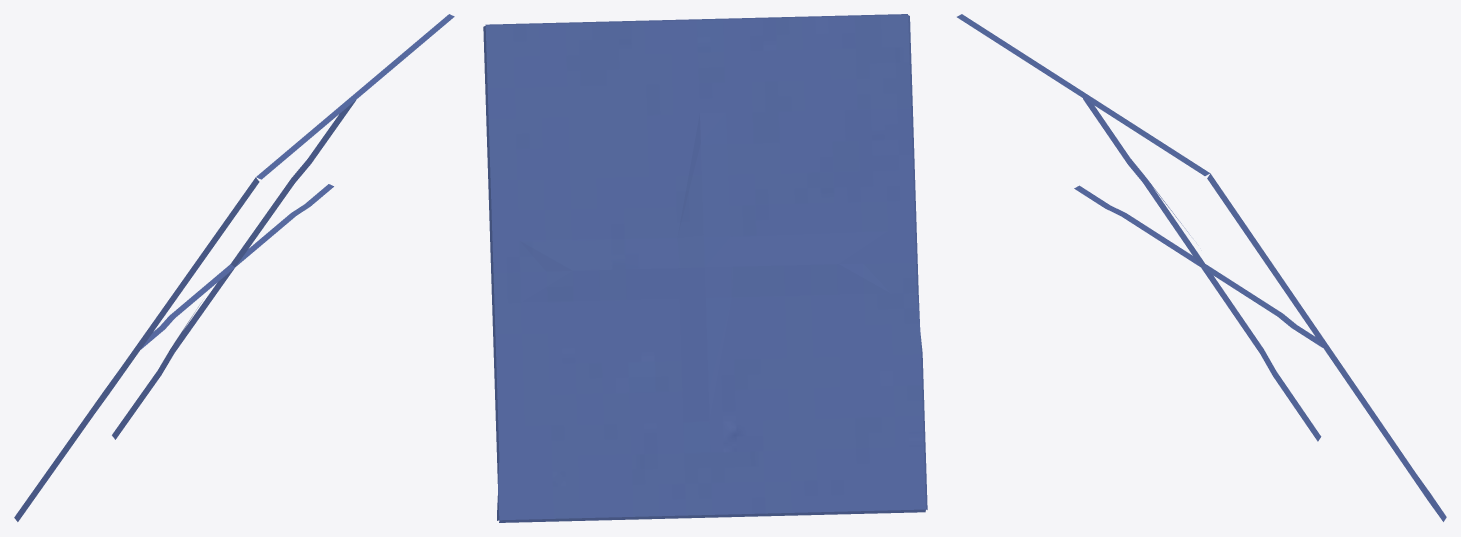
3 renders of one model, left to right at view 1: azimuth 30°, elevation 25°; view 2: azimuth 150°, elevation 25°; view 3: azimuth 270°, elevation 25°, orthographic. The views are drawn at different scales.
Size of the model in its own units: 79368 by 67195 by 72291.
1 material, 1 textured.
